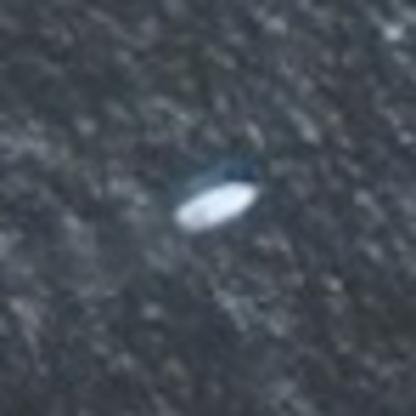ship: (166, 175, 266, 238)
